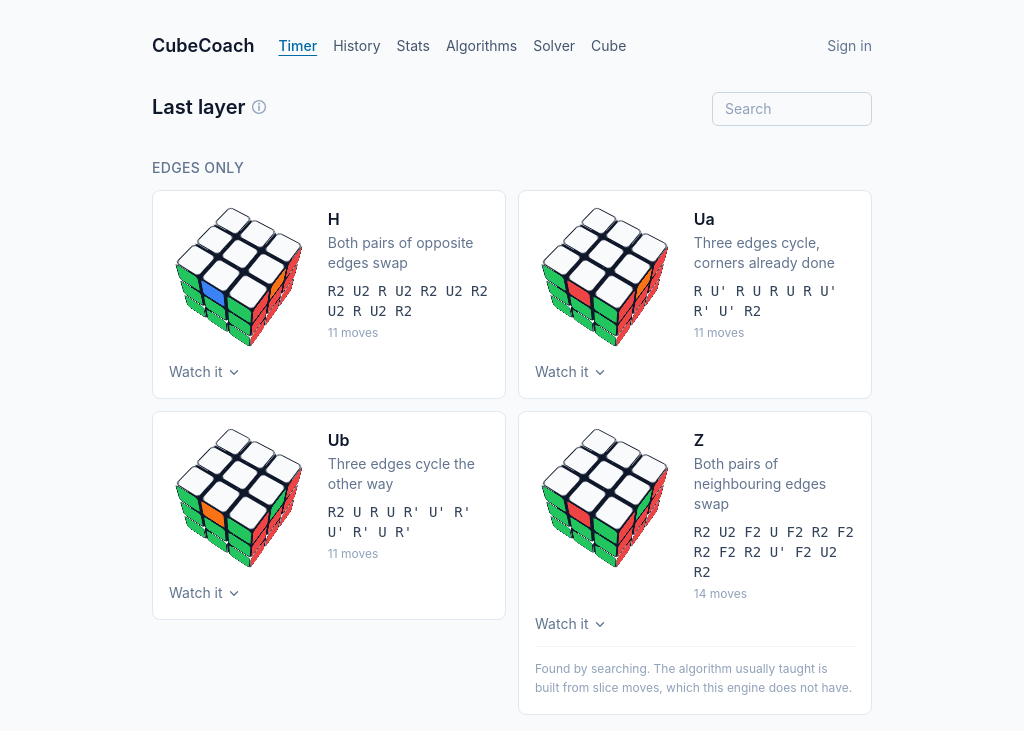
Test: AlgorithmsPage › keeps the player out of the way until a case is opened
Click the button "Watch it" below "R2 U2 R U2 R2 U2 R2 U2 R U2 R2".
click(205, 372)  # box [169,362,241,382]
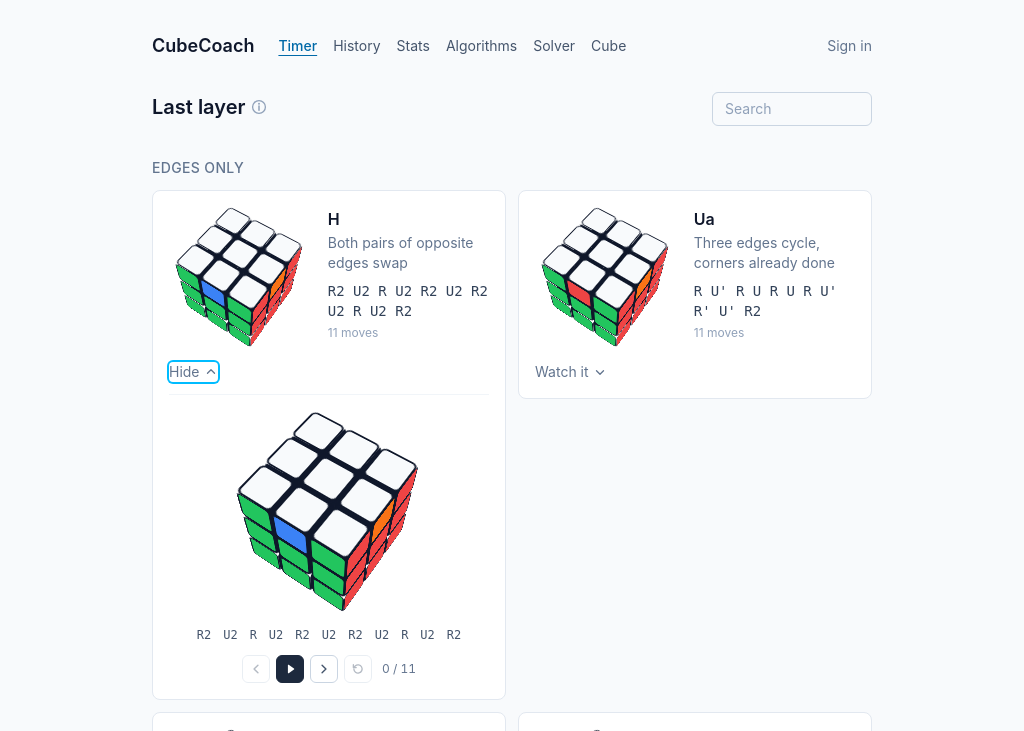
Check: the button named "play the algorithm" is shown, box [276,655,304,683]
